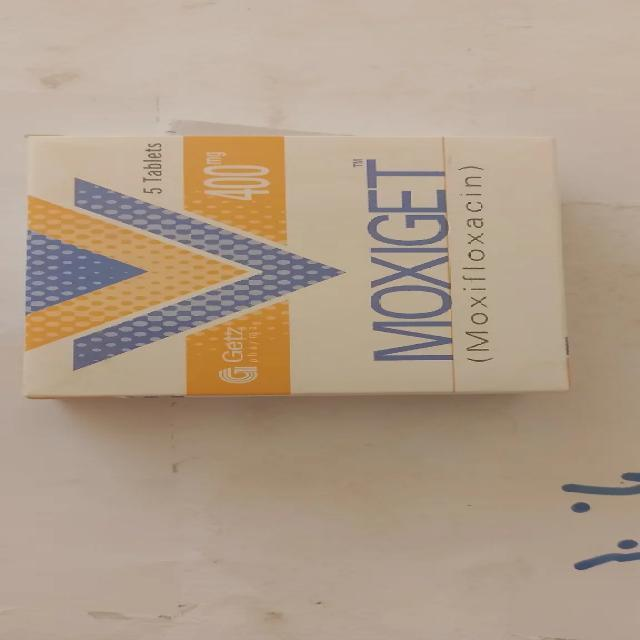drug-name: (351, 158, 459, 364)
